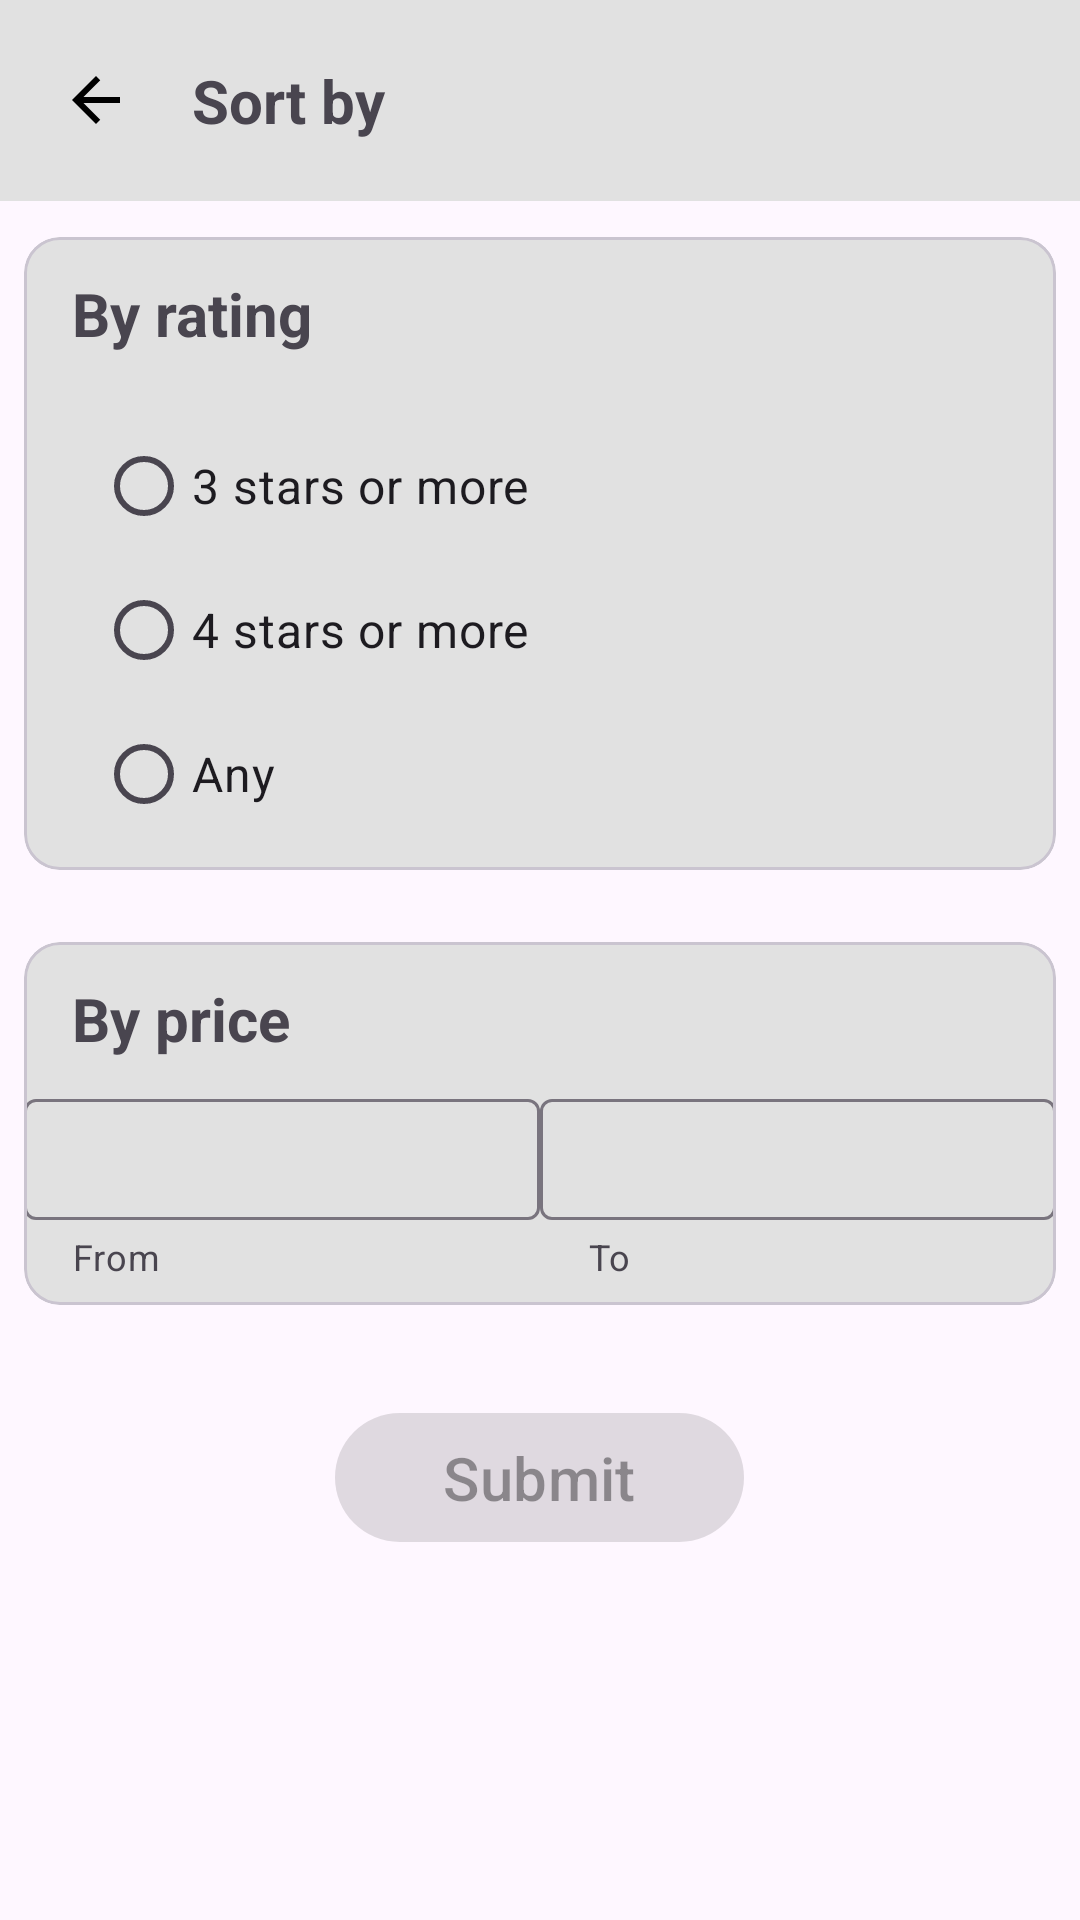

Icons on this 1080x1920 Android screen, each with the point to tap as (x,y):
arrow back: (96,100)
